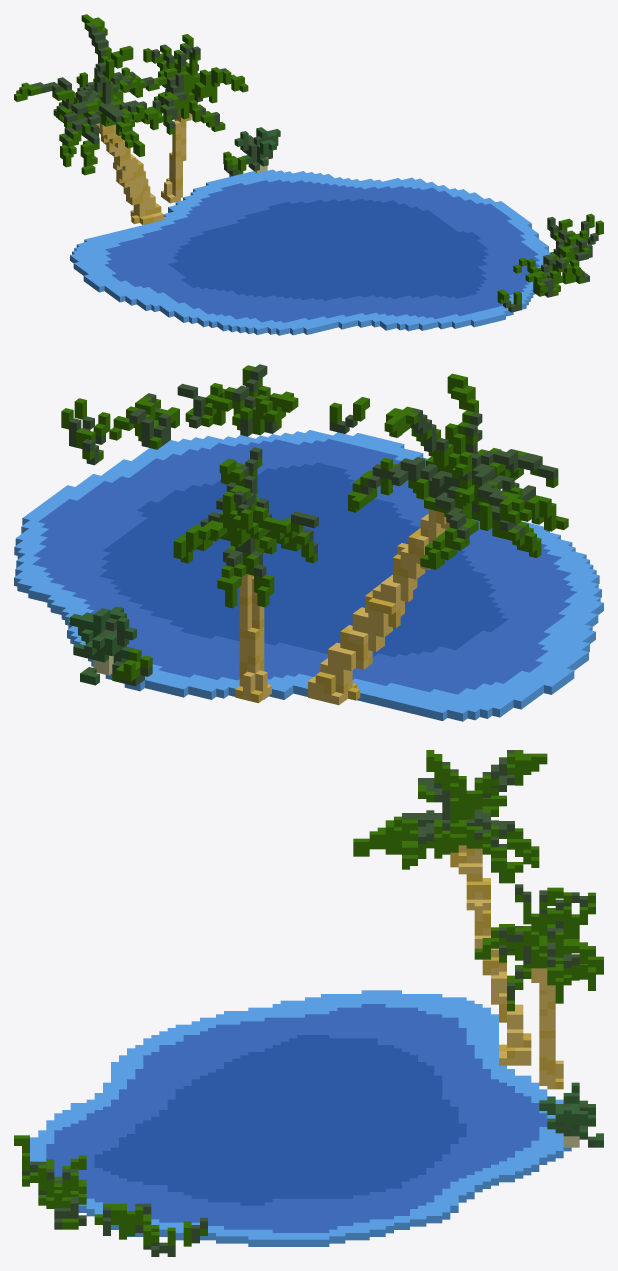
File: oasis.obj
The picture shows the model from 3 angles, top to bottom: view 1: azimuth 30°, elevation 25°; view 2: azimuth 150°, elevation 25°; view 3: azimuth 270°, elevation 25°; orthographic projection. The views are drawn at different scales.
Bounding box in the file's own units: 8.4 × 3.8 × 7.3.
1 material, 1 textured.
